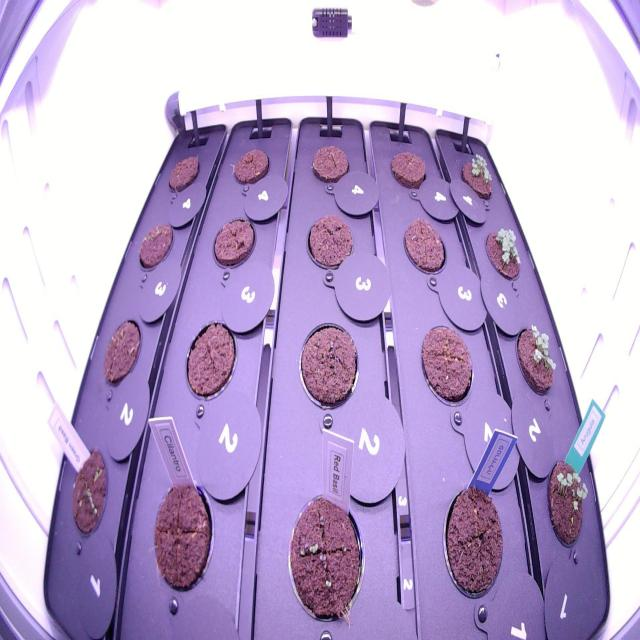germination: (278, 482, 372, 633), (542, 440, 596, 561), (63, 438, 116, 544), (513, 315, 566, 406), (479, 215, 528, 290), (456, 140, 501, 210)
pod: (142, 465, 224, 601), (436, 469, 510, 615), (415, 307, 480, 422), (294, 312, 362, 421), (175, 310, 239, 408), (299, 200, 358, 282), (97, 306, 147, 390), (205, 208, 260, 278), (399, 207, 449, 284), (385, 138, 430, 200), (227, 134, 275, 192), (305, 136, 354, 192), (136, 215, 177, 273), (163, 148, 205, 200)
